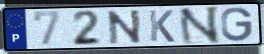2: (69, 9, 102, 47)
7: (30, 10, 65, 49)
G: (219, 7, 254, 43)
K: (148, 9, 177, 44)
N: (177, 5, 221, 46), (106, 9, 144, 46)
